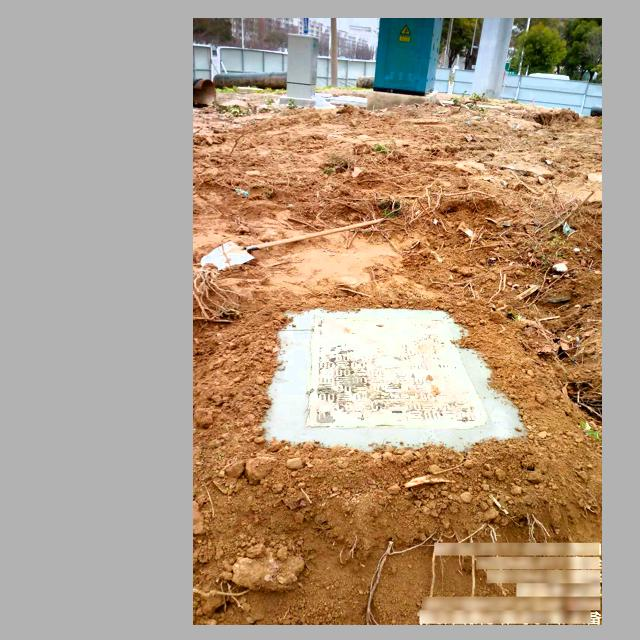good: (306, 308, 481, 429)
